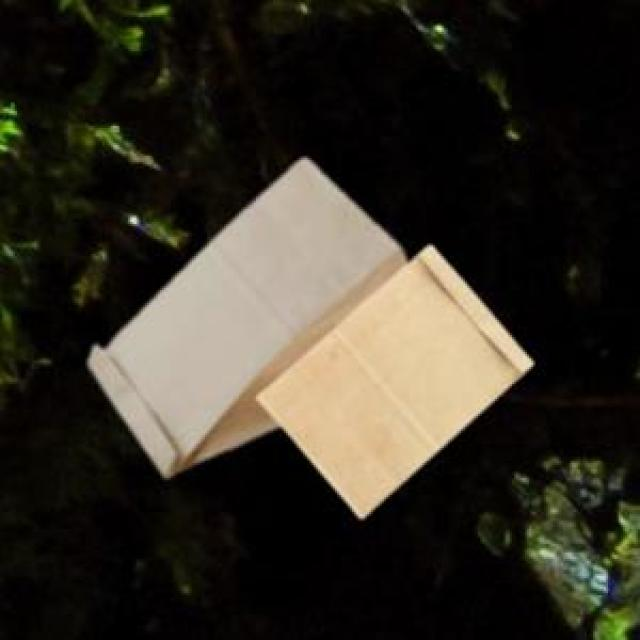PaperCardboard: (82, 156, 408, 476), (259, 250, 533, 518)
